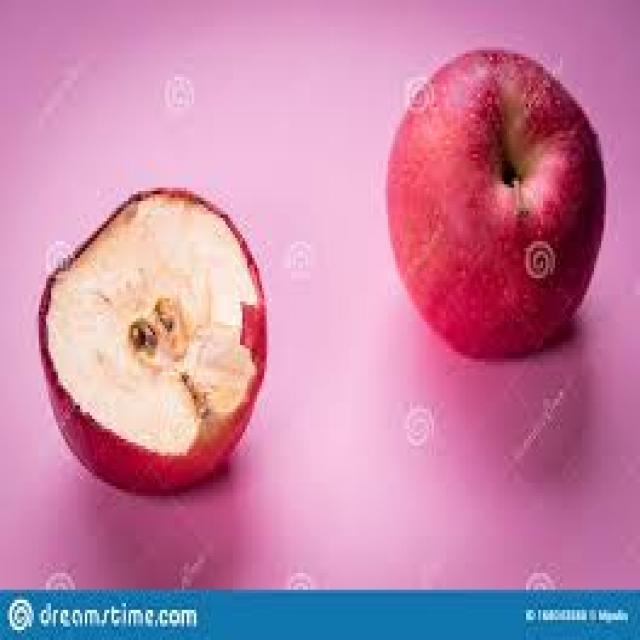organic waste: (34, 184, 267, 493), (383, 43, 604, 362)
